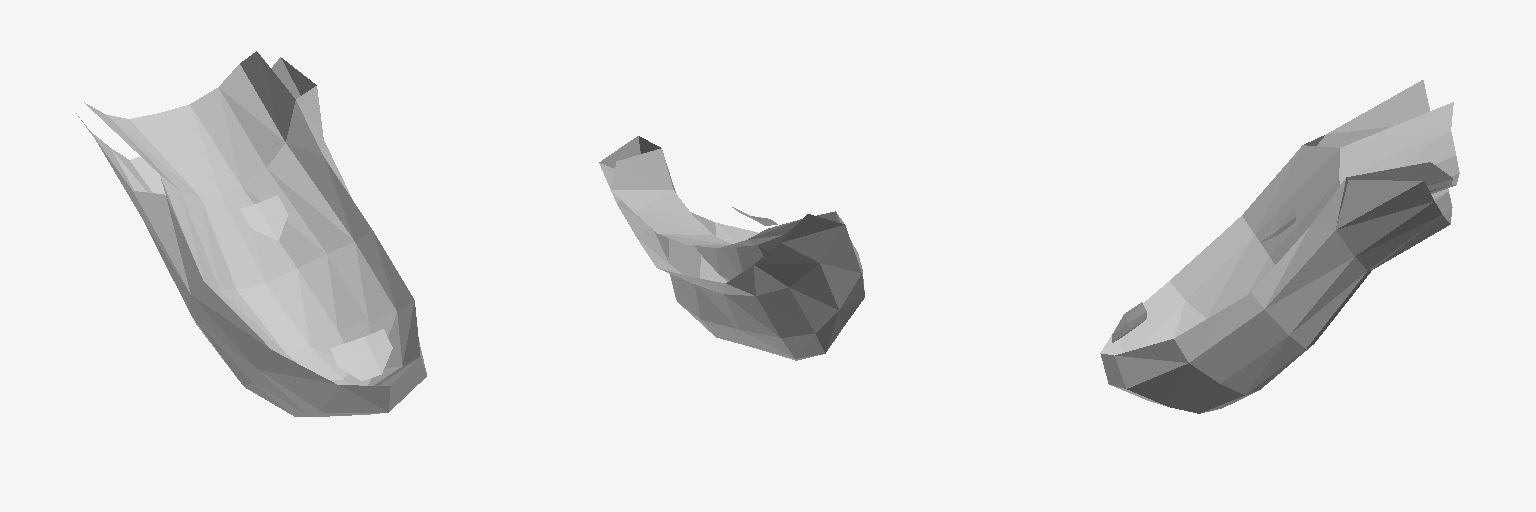
Rendered from Jboca.obj.
3 renders of one model, left to right at view 1: azimuth 30°, elevation 25°; view 2: azimuth 150°, elevation 25°; view 3: azimuth 270°, elevation 25°, orthographic.
Visible parts, largest first — view 1: Boca; view 2: Boca; view 3: Boca.
Boxes of the visible parts, box(x1,y1,x2,y2) form: Boca: box(76, 51, 426, 416); Boca: box(599, 136, 864, 360); Boca: box(1100, 80, 1459, 413).
Bounding box in the file's own units: 0.073 × 0.082 × 0.1018.